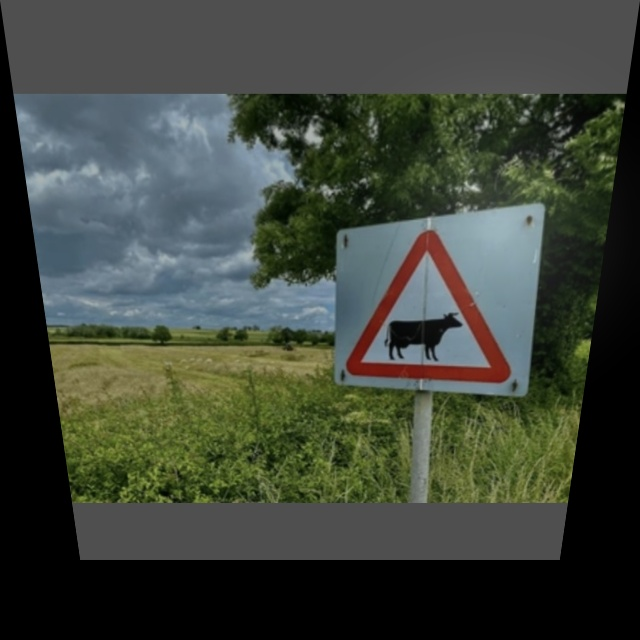Cattle: (340, 228, 530, 392)
